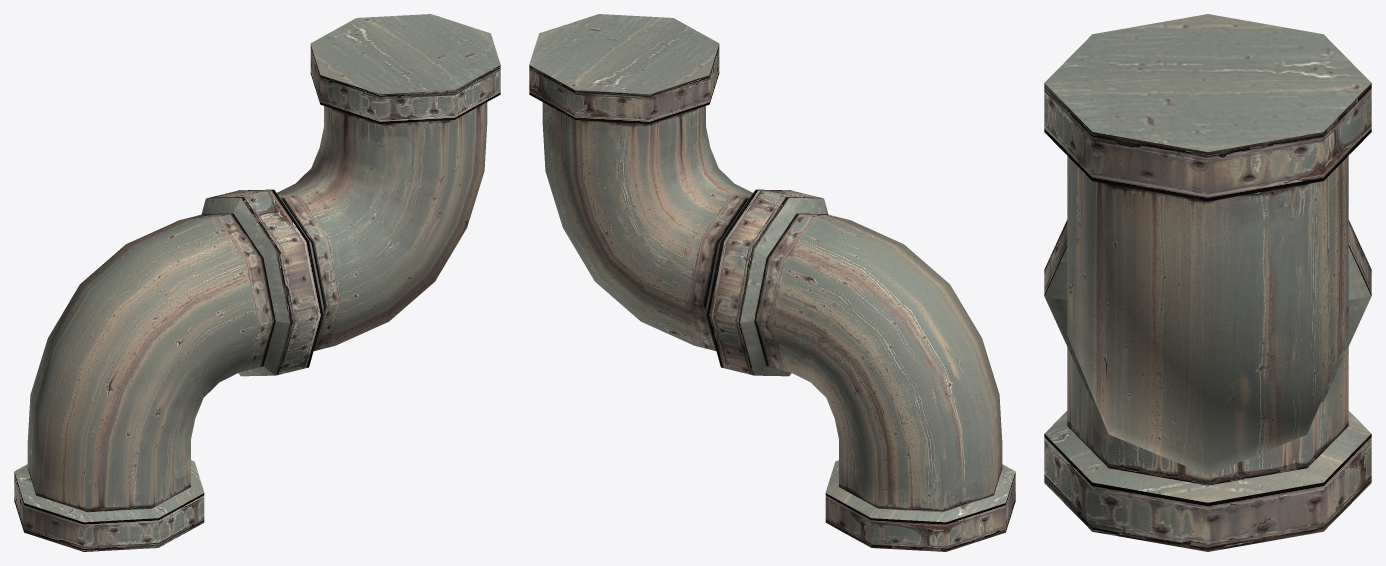
Rendered from pipe_S_curve.fbx.
3 renders of one model, left to right at view 1: azimuth 30°, elevation 25°; view 2: azimuth 150°, elevation 25°; view 3: azimuth 270°, elevation 25°, orthographic. The views are drawn at different scales.
Visible parts, largest first — view 1: Mesh Object; view 2: Mesh Object; view 3: Mesh Object.
Part boxes in pixels (x1,y1,x2,y2): Mesh Object: (14, 14, 500, 551); Mesh Object: (529, 14, 1015, 551); Mesh Object: (1044, 14, 1371, 551).
Size of the model in its own units: 1.99 by 1.57 by 0.7284.
